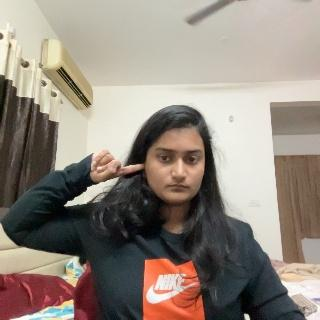Deaf: (77, 148, 144, 183)
Face: (141, 105, 208, 205)
